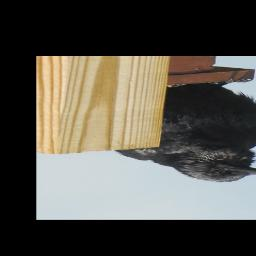Crow: (117, 79, 256, 183)
